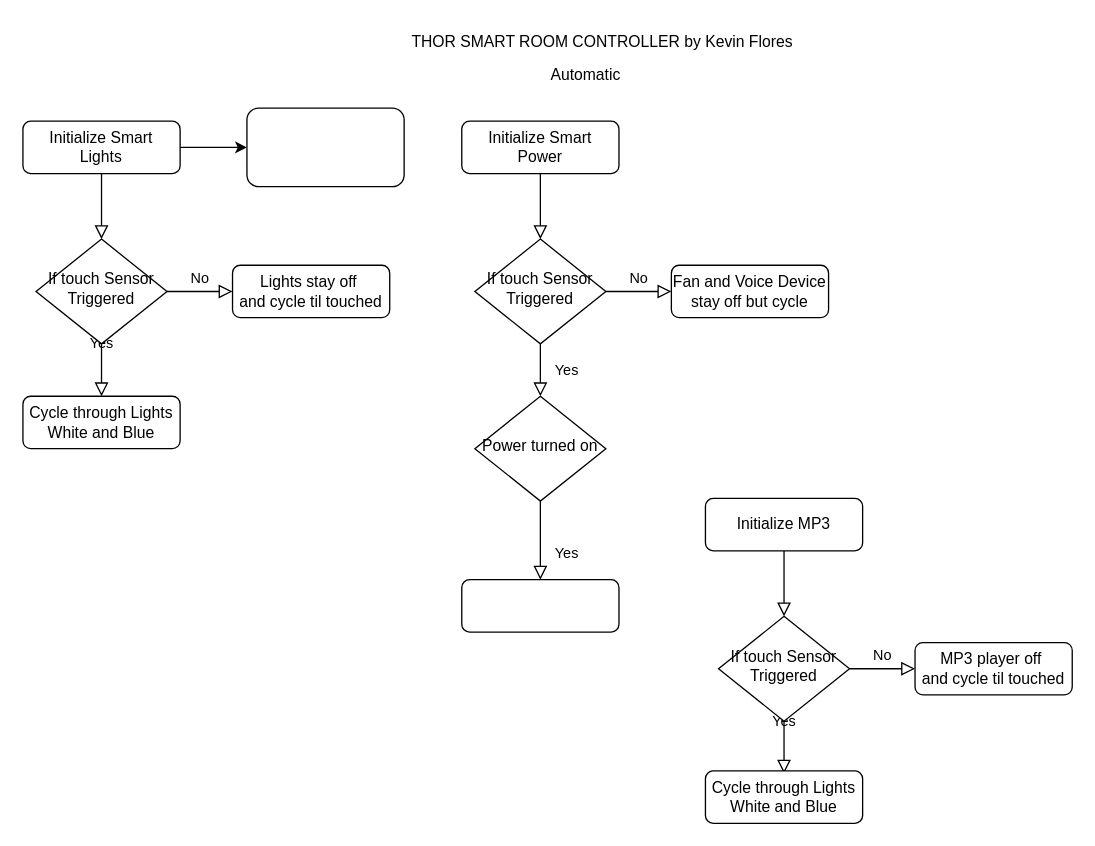
The diagram is 1095 pixels wide and 846 high, and some of its shapes have lost their labels. The centre of each missing label's shape, as x and y in pixels:
Fans turn on and Voice Device Activated: pixel 539 605
Lights turn off and on when code is pushed: pixel 325 147
